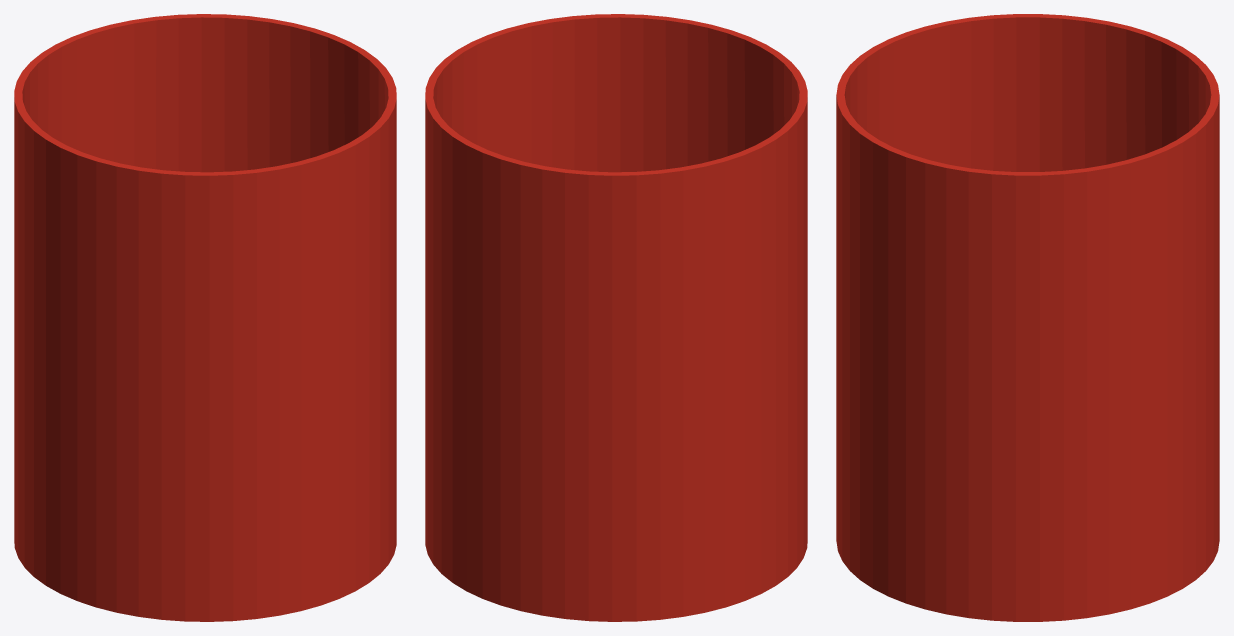
Rendered from red_bin.dae.
3 views of the same model, side by side, from view 1: azimuth 30°, elevation 25°; view 2: azimuth 150°, elevation 25°; view 3: azimuth 270°, elevation 25° (orthographic).
Visible parts, largest first — view 1: Cylinder; view 2: Cylinder; view 3: Cylinder.
Part boxes in pixels (left/top/right/bottom): Cylinder: left=14, top=14, right=396, bottom=621; Cylinder: left=425, top=14, right=807, bottom=621; Cylinder: left=836, top=14, right=1219, bottom=621.
Bounding box in the file's own units: 0.1397 × 0.14 × 0.18.
